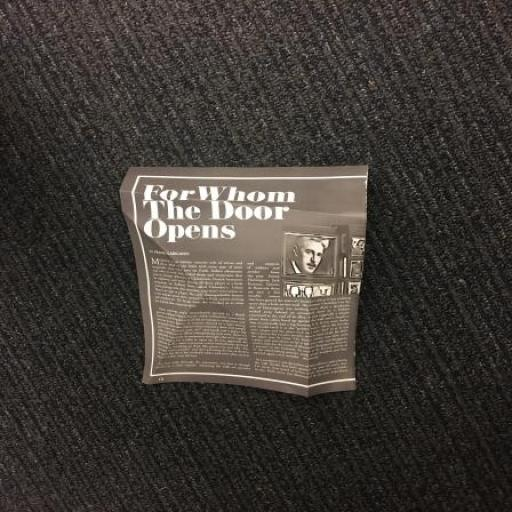paper: (79, 135, 419, 474)
